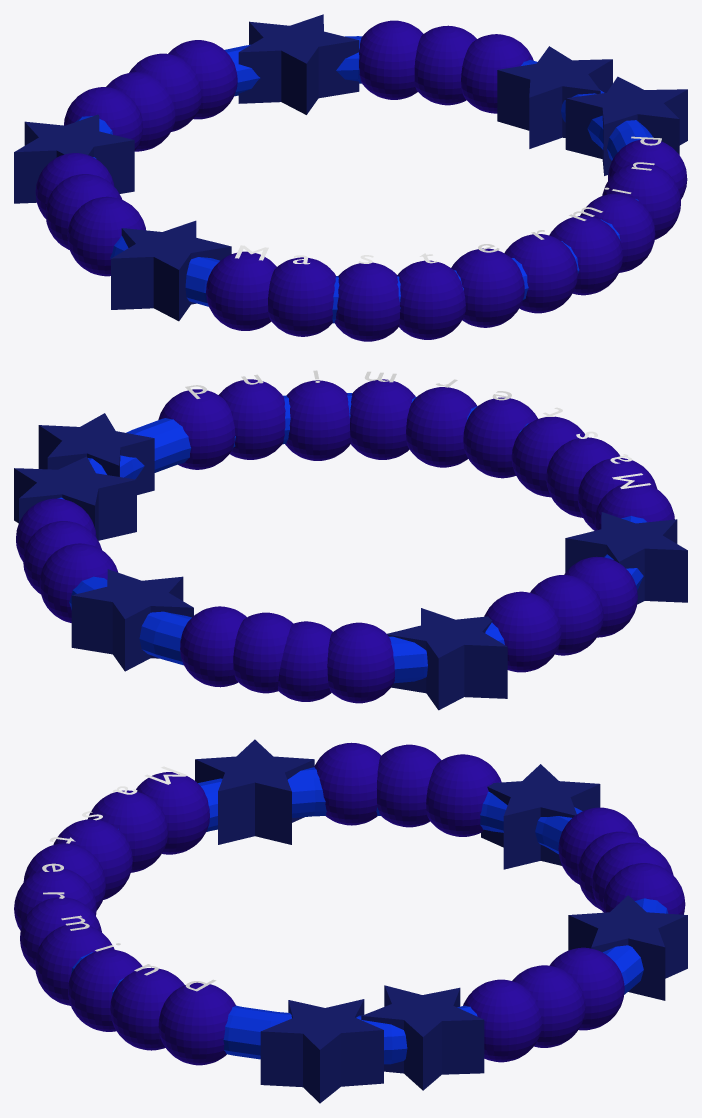
The model's file is Midnights_Mastermind.fbx.
3 renders of one model, top to bottom at view 1: azimuth 30°, elevation 25°; view 2: azimuth 150°, elevation 25°; view 3: azimuth 270°, elevation 25°, orthographic. The views are drawn at different scales.
Visible parts, largest first — view 1: Torus.040; view 2: Torus.040; view 3: Torus.040.
Part boxes in pixels (<box>): Torus.040: <box>14,14,687,341</box>; Torus.040: <box>14,379,687,710</box>; Torus.040: <box>14,739,687,1103</box>.
Bounding box in the file's own units: 124 × 15.79 × 114.
